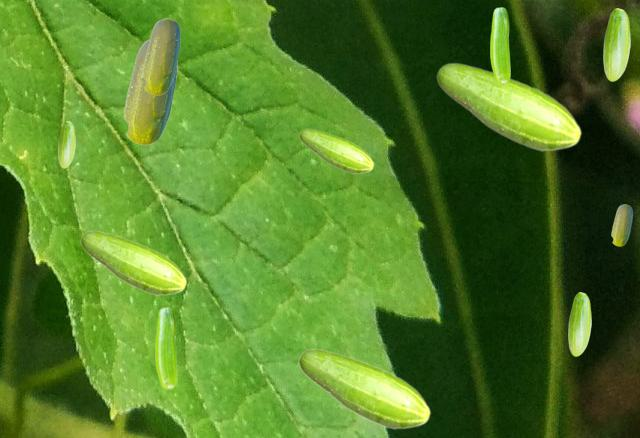cucumber: (436, 62, 581, 151), (298, 348, 430, 429), (80, 230, 186, 295), (123, 39, 176, 144), (299, 128, 373, 173), (142, 18, 179, 94), (603, 8, 629, 80), (155, 307, 176, 388), (490, 7, 509, 83), (568, 292, 590, 355), (611, 204, 631, 245), (58, 121, 74, 167)
